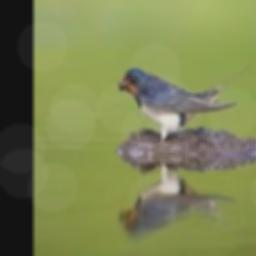Swallow: (119, 67, 254, 144)
